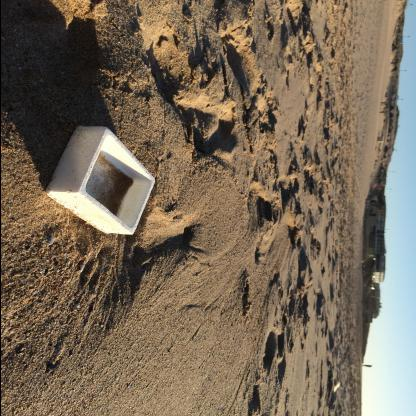kopuk: (45, 125, 154, 235)
